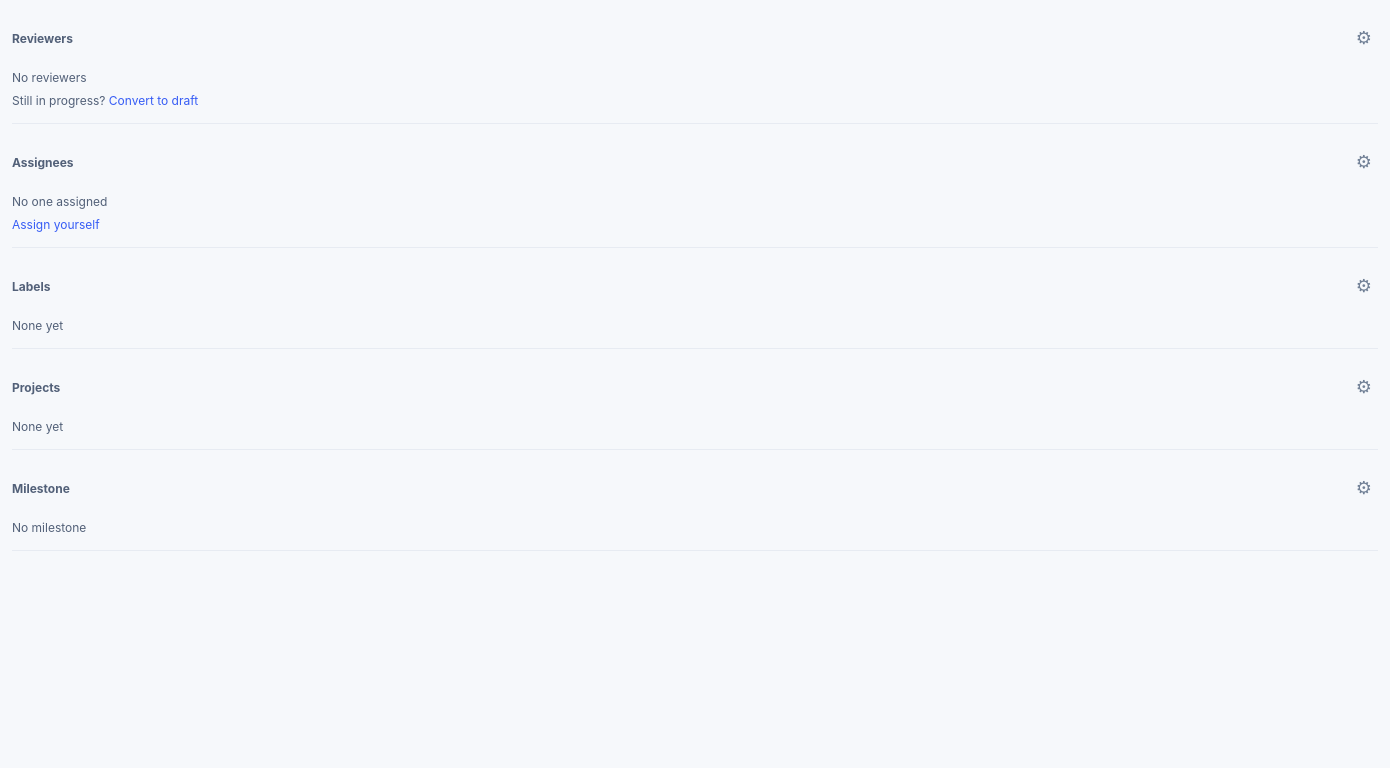
Scenario: reports when a label was created but could not be applied
The image size is (1390, 768).
Click the button named "Edit Labels": (1364, 286) [1350,276,1378,296]
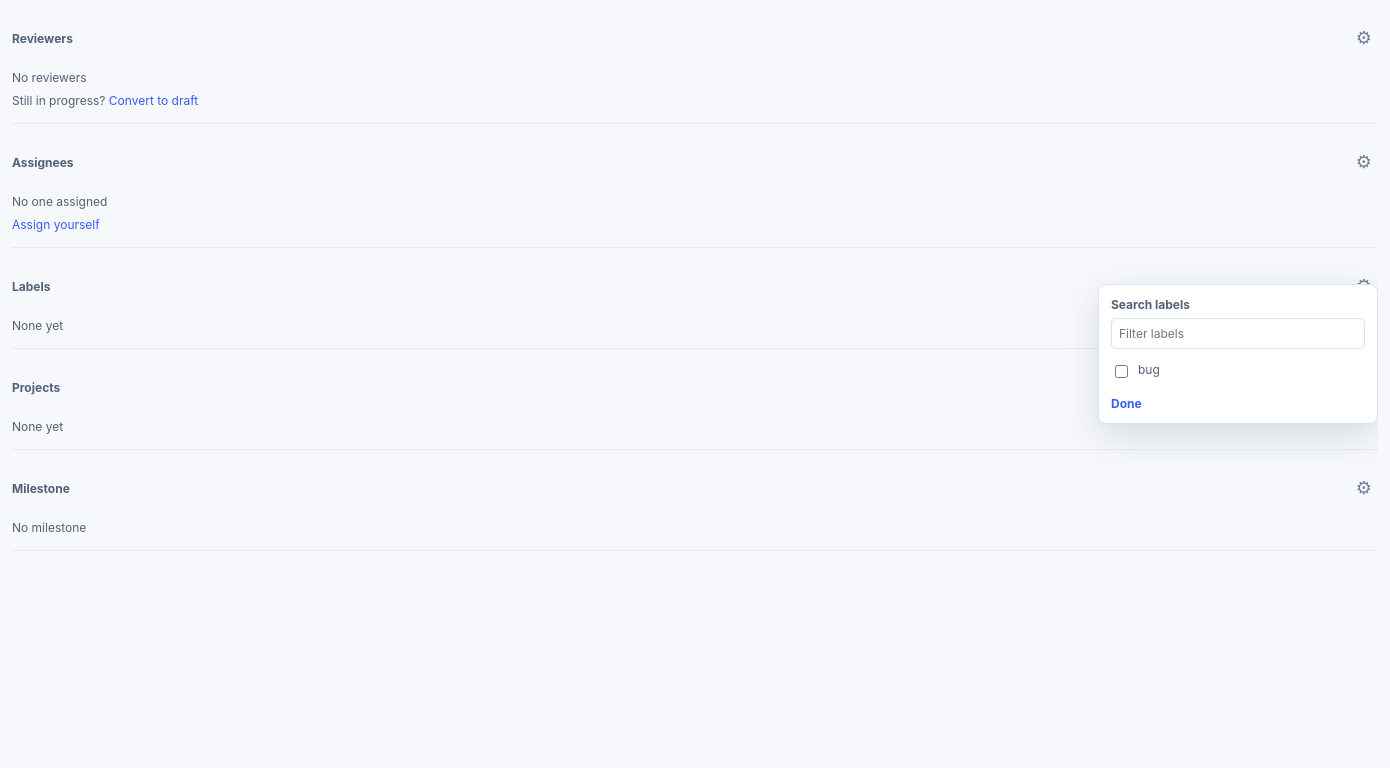
Expected: the checkbox labelled "bug" is shown, [1115,365,1128,378]
In the field labelled "Search labels": (1238, 333) [1111,318,1365,349], type "dev-dungtran"
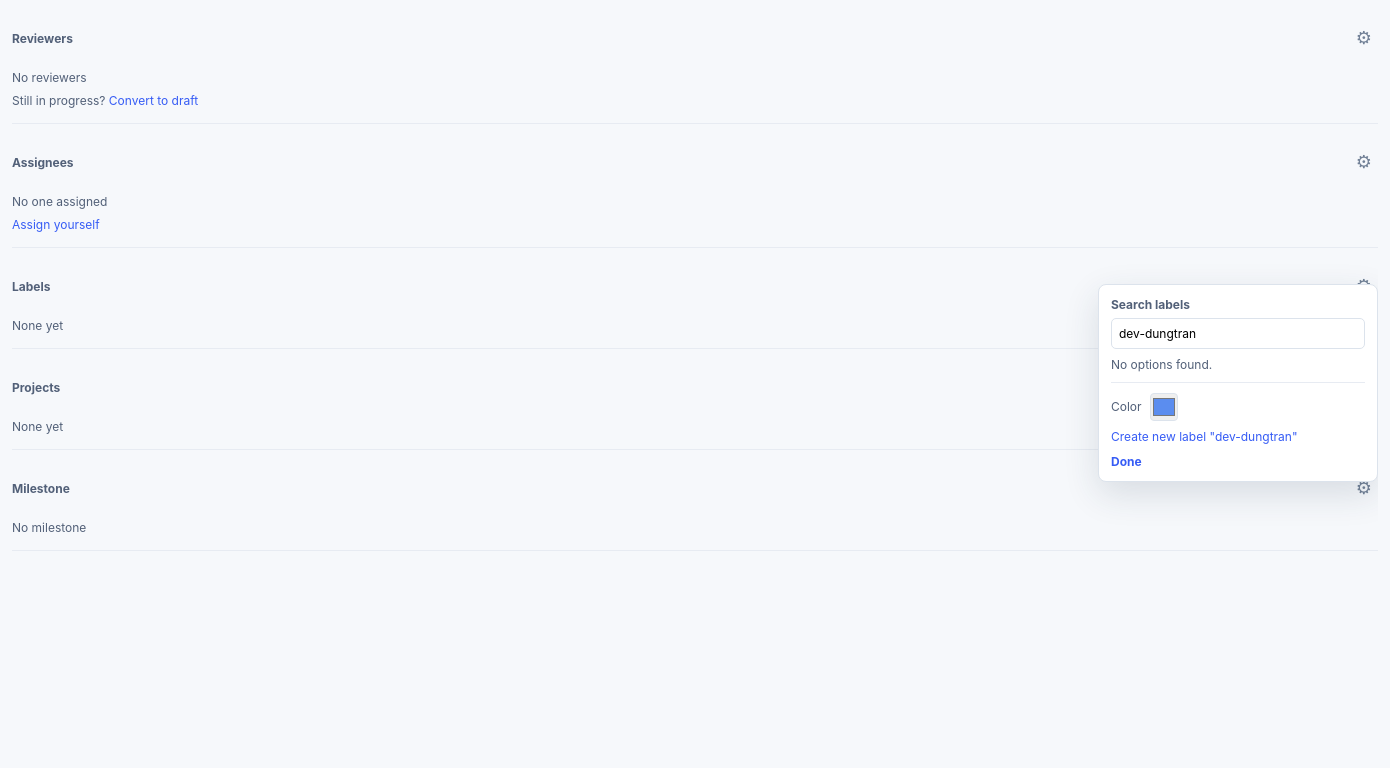
Click the button "Create new label \"dev-dungtran\"": (1238, 436) [1111,429,1365,444]
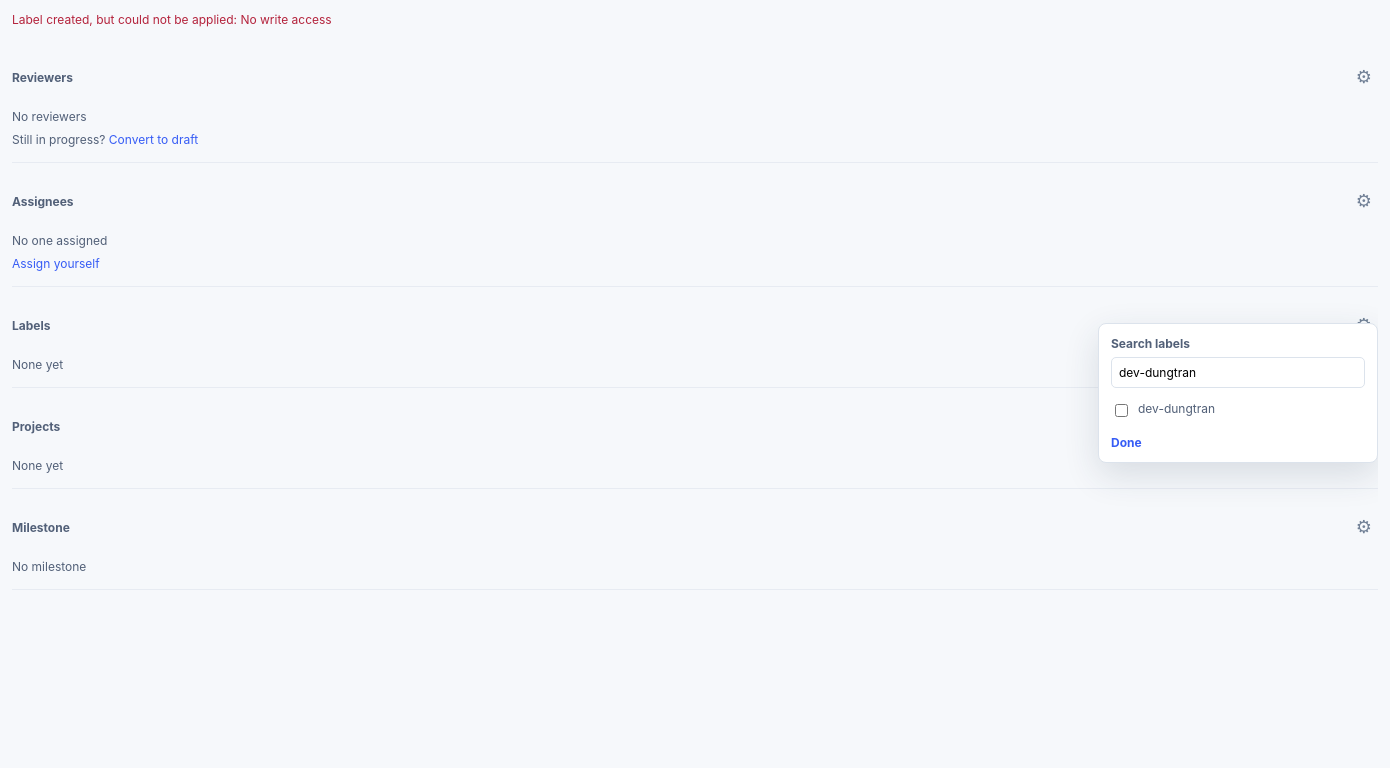
Expected: the message reads "Label created, but could not be applied: No write access", [12,12,332,27]
Expected: the checkbox labelled "dev-dungtran" is not checked, [1115,404,1128,417]
Expected: the button "Create new label" is gone
